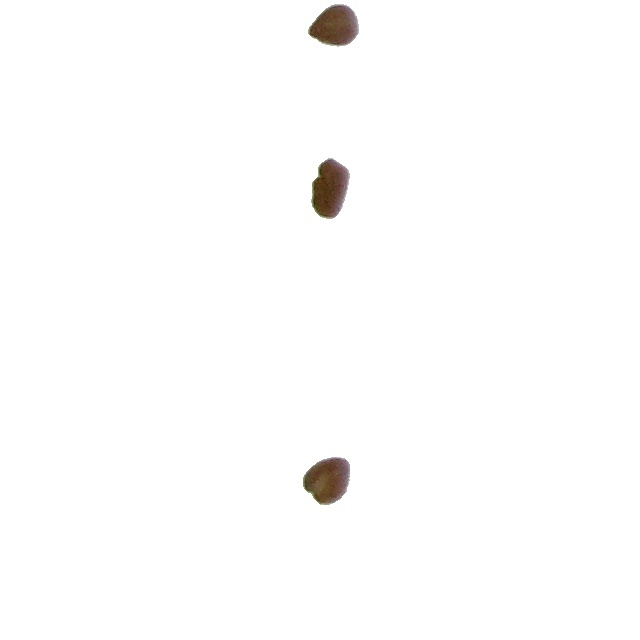buckwheat: (310, 157, 351, 220), (302, 456, 351, 506), (307, 3, 360, 48)
